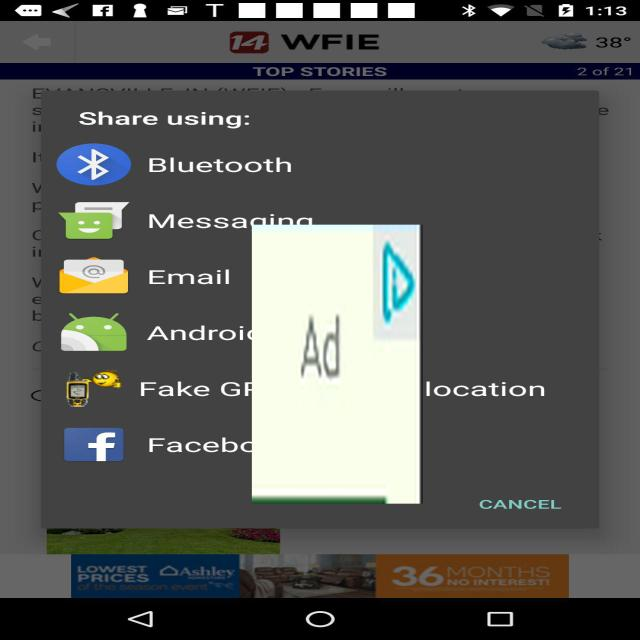sneaking: (252, 224, 422, 503)
